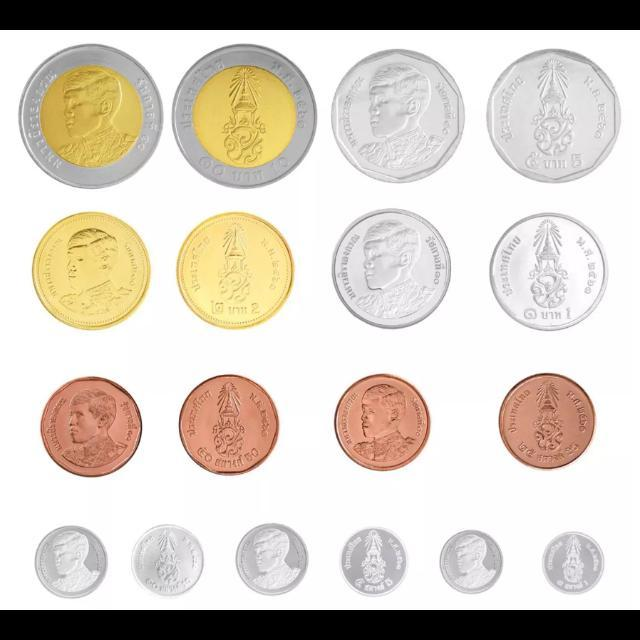1 Bath: (327, 204, 457, 336), (484, 210, 612, 340)
10 Bath: (16, 43, 168, 192), (174, 43, 322, 193)
2 Bath: (174, 205, 300, 340), (28, 209, 155, 336)
5 Bath: (326, 46, 470, 187), (483, 46, 627, 186)
